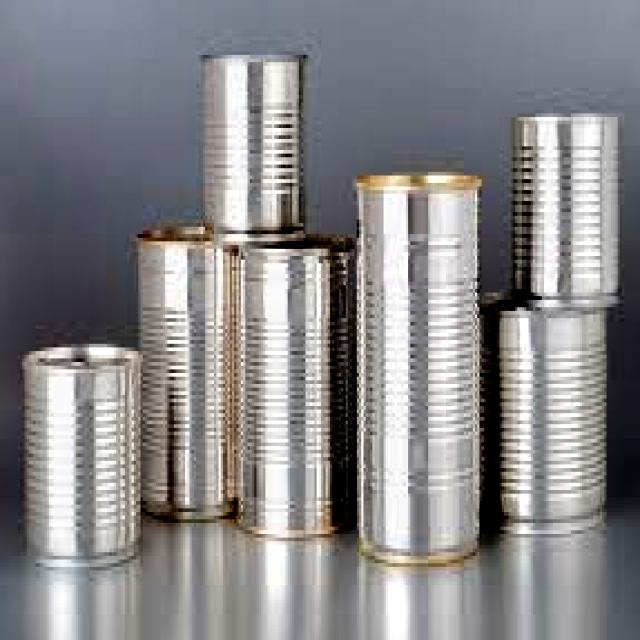Metal: (351, 170, 486, 566), (237, 233, 356, 539), (477, 286, 614, 540), (132, 224, 238, 528), (18, 340, 142, 569), (510, 110, 631, 313), (198, 46, 310, 238)
